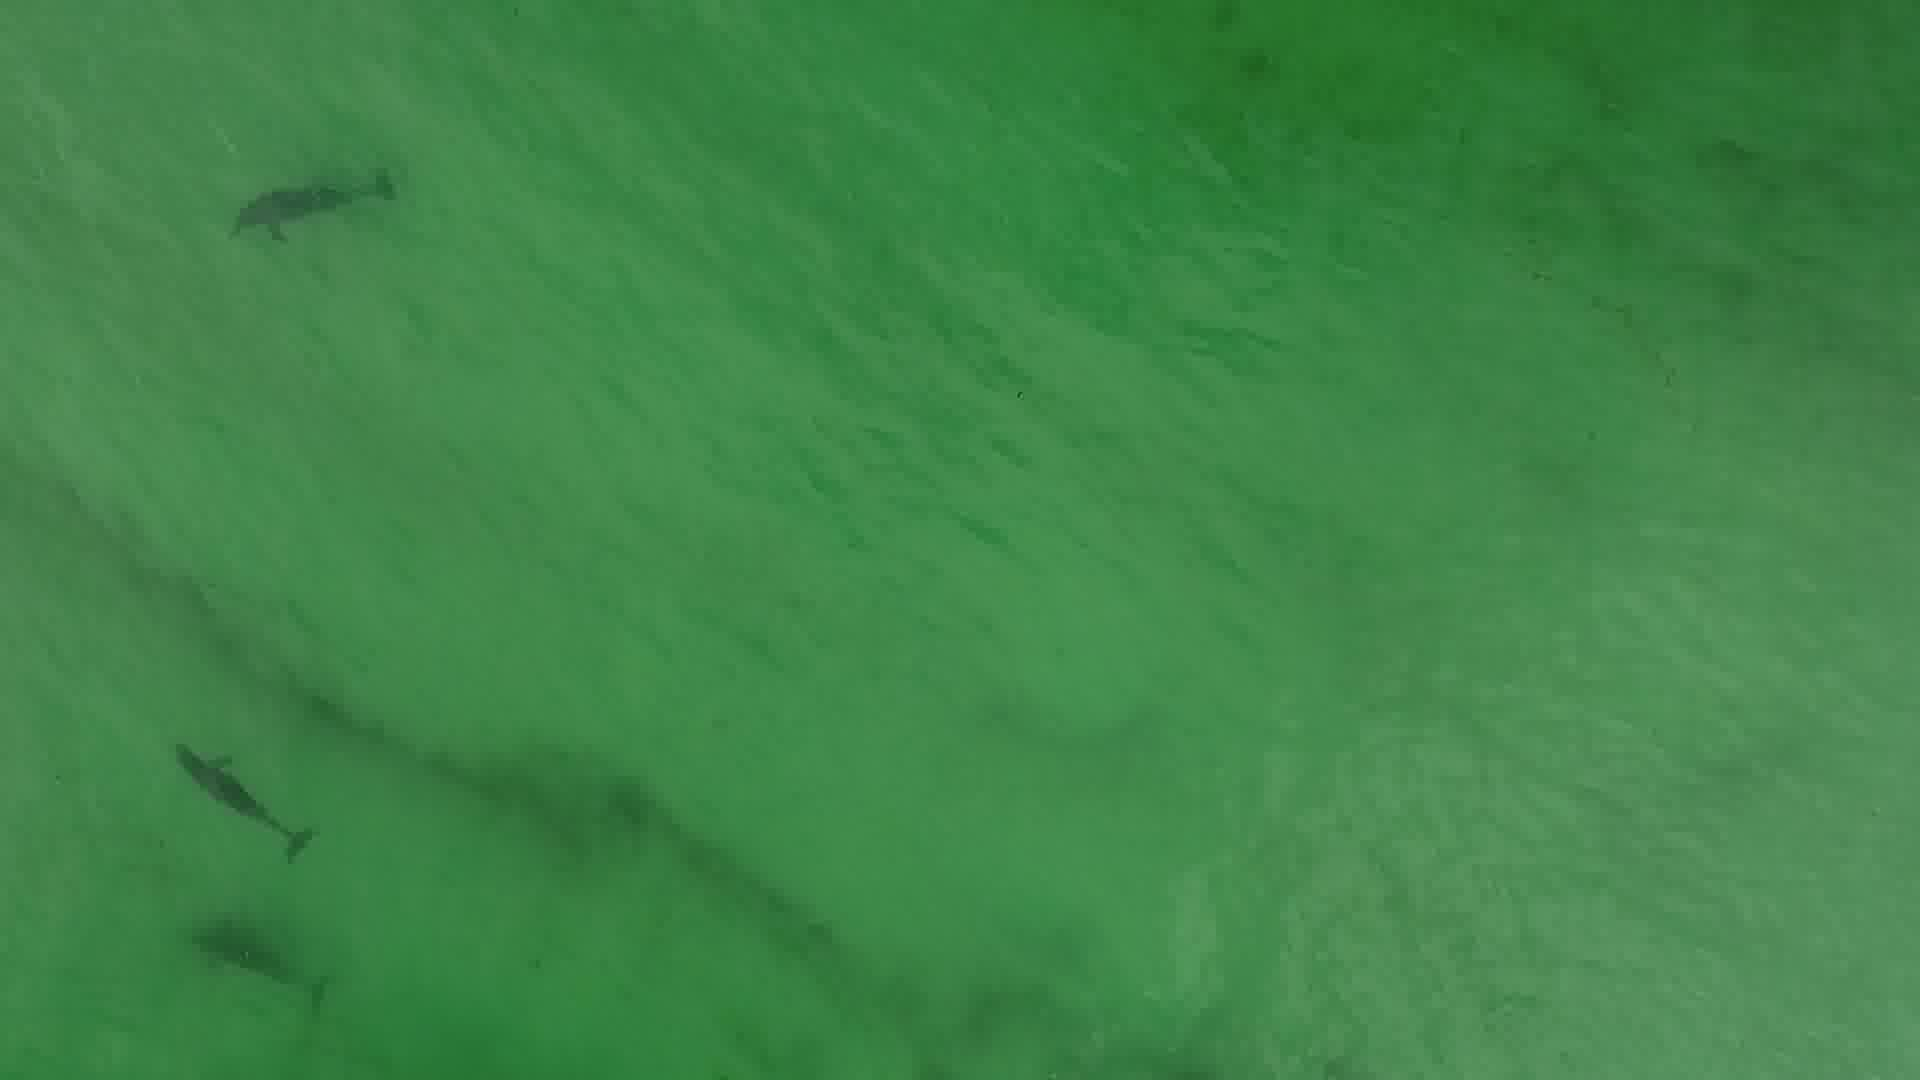dolphin: (141, 713, 323, 874), (182, 145, 436, 258)
